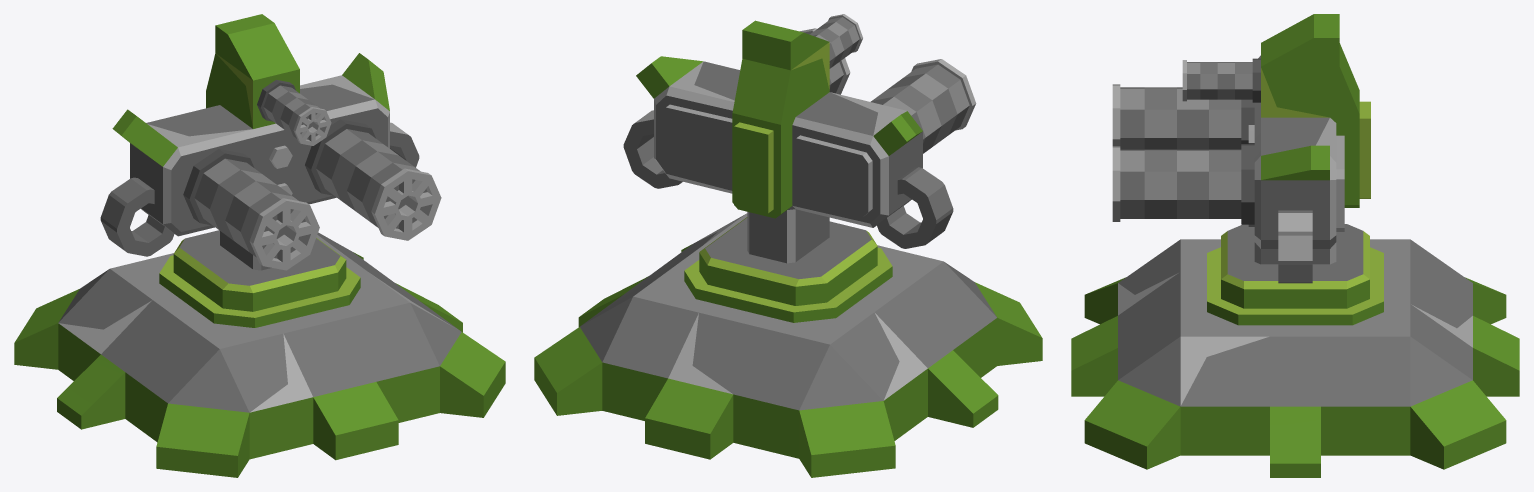
File: tower_gatling_green_3.fbx
3 views of the same model, side by side, from view 1: azimuth 30°, elevation 25°; view 2: azimuth 150°, elevation 25°; view 3: azimuth 270°, elevation 25° (orthographic). The views are drawn at different scales.
Visible parts, largest first — view 1: tower_gatling_green_3, top_gatling_green_3; view 2: tower_gatling_green_3, top_gatling_green_3; view 3: tower_gatling_green_3, top_gatling_green_3.
Boxes of the visible parts, x1=… form: tower_gatling_green_3: x1=14, y1=232, x2=505, y2=477; top_gatling_green_3: x1=100, y1=14, x2=441, y2=327; tower_gatling_green_3: x1=534, y1=213, x2=1042, y2=477; top_gatling_green_3: x1=623, y1=14, x2=976, y2=322; tower_gatling_green_3: x1=1071, y1=239, x2=1519, y2=477; top_gatling_green_3: x1=1112, y1=14, x2=1383, y2=325.
Size of the model in its own units: 173 by 146 by 168.
